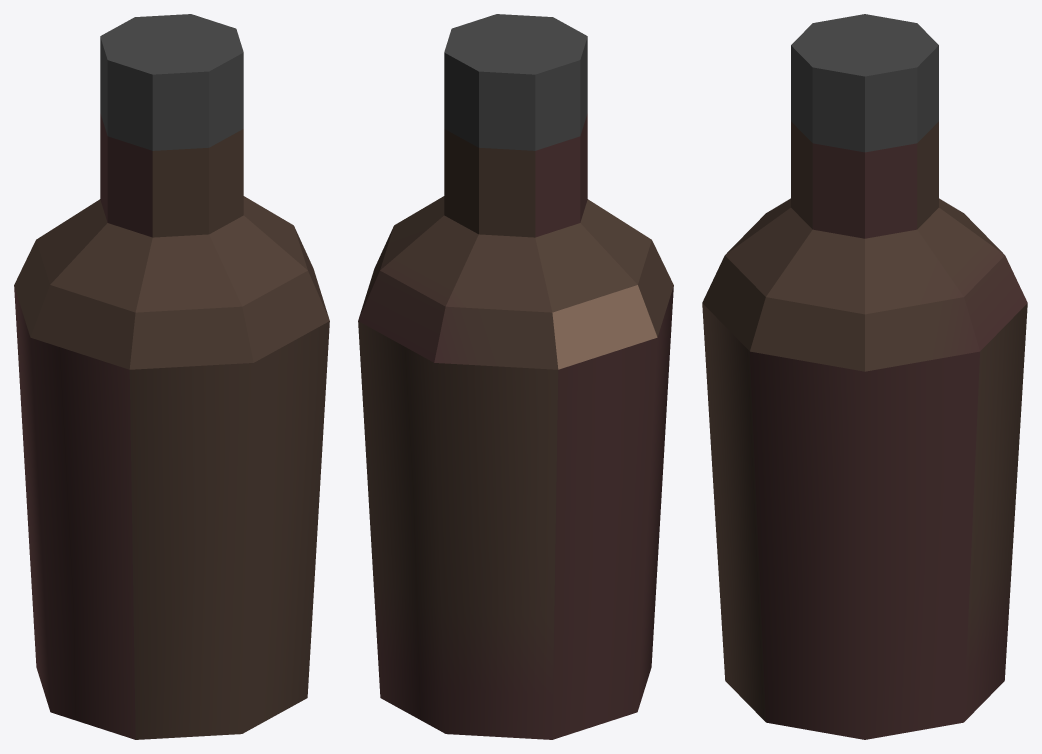
The model's file is Object_Bottle.fbx.
3 renders of one model, left to right at view 1: azimuth 30°, elevation 25°; view 2: azimuth 150°, elevation 25°; view 3: azimuth 270°, elevation 25°, orthographic.
Visible parts, largest first — view 1: Cylinder001; view 2: Cylinder001; view 3: Cylinder001.
Boxes of the visible parts, bbox=[...] form: Cylinder001: bbox=[14, 14, 329, 739]; Cylinder001: bbox=[358, 14, 673, 739]; Cylinder001: bbox=[702, 14, 1027, 739].
Bounding box in the file's own units: 2.8 × 6.02 × 2.8.
1 material, 1 textured.
